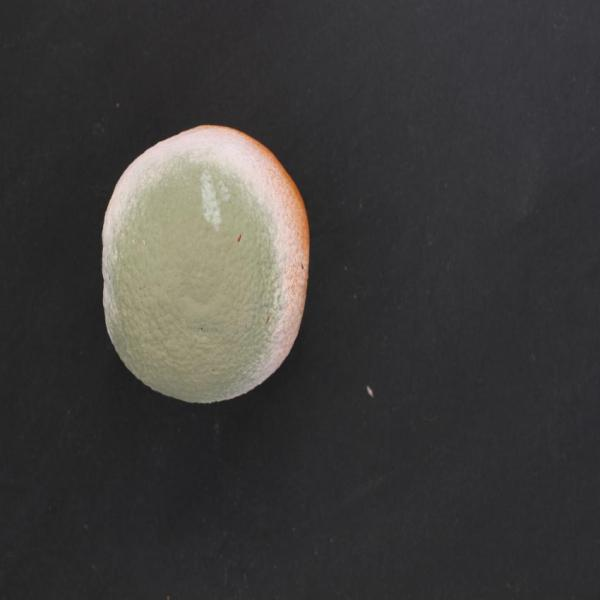Moho verde: (80, 107, 337, 429)
